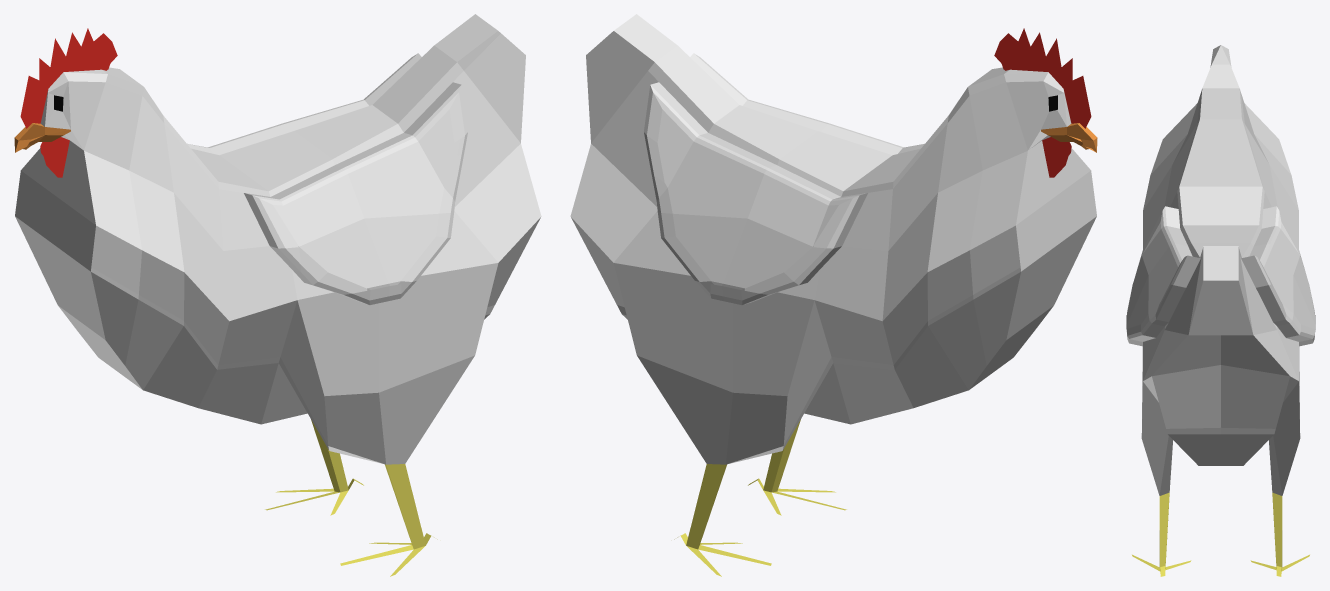
File: gallina.glb
3 views of the same model, side by side, from view 1: azimuth 30°, elevation 25°; view 2: azimuth 150°, elevation 25°; view 3: azimuth 270°, elevation 25° (orthographic). The views are drawn at different scales.
Parts seen in each view (by area): view 1: Cubo_Material.002_0; view 2: Cubo_Material.002_0; view 3: Cubo_Material.002_0.
Part boxes in pixels (bbox=[...]): Cubo_Material.002_0: bbox=[14, 14, 541, 576]; Cubo_Material.002_0: bbox=[570, 14, 1097, 576]; Cubo_Material.002_0: bbox=[1126, 45, 1315, 576].
Bounding box in the file's own units: 3.52 × 3.81 × 1.49.
1 material, 1 textured.
